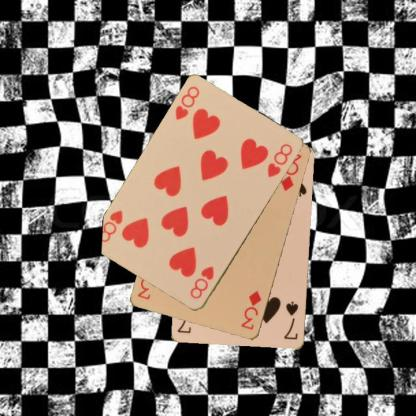3d: (238, 288, 263, 331)
7s: (281, 298, 300, 342)
8h: (172, 84, 201, 122), (187, 264, 216, 300)
